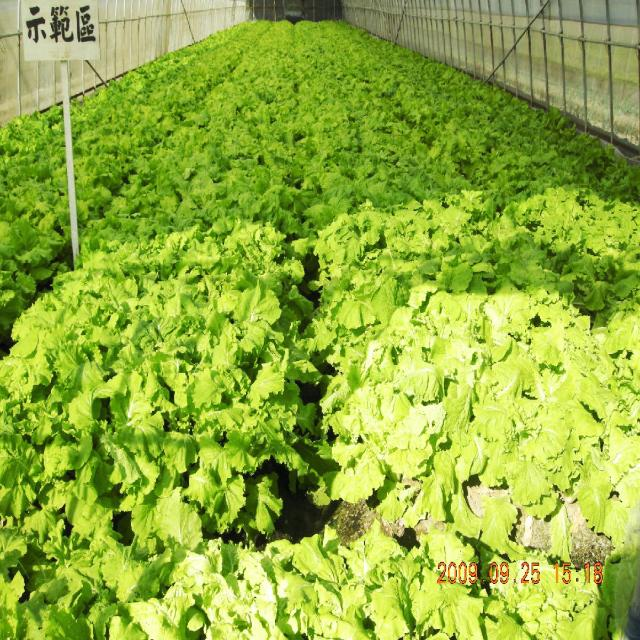chinese_cabbage: (6, 17, 629, 634)
